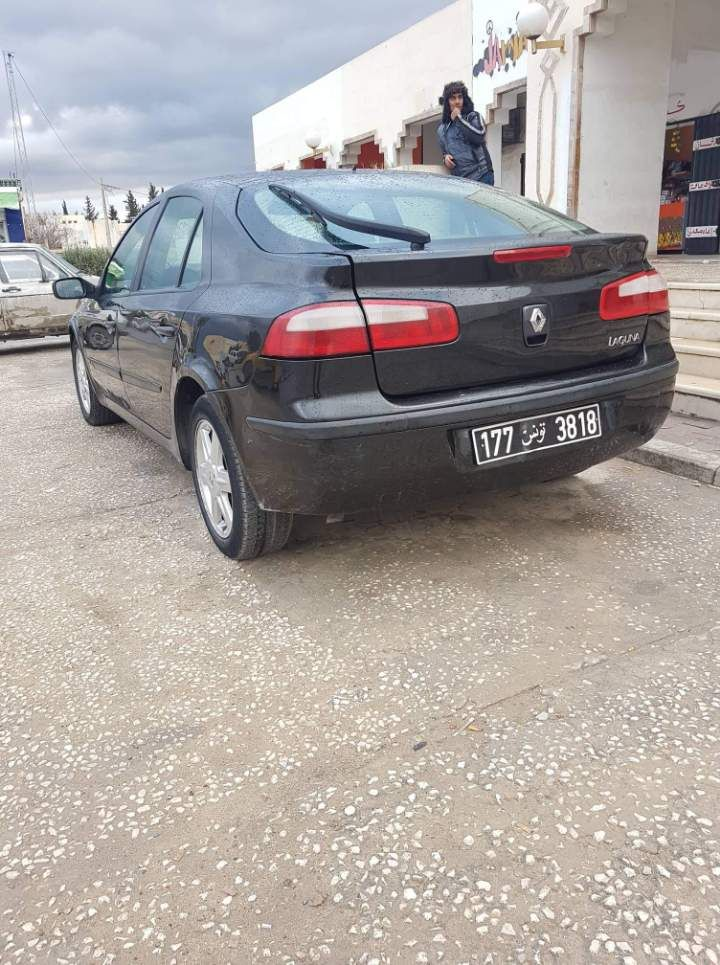LP: (471, 404, 608, 465)
